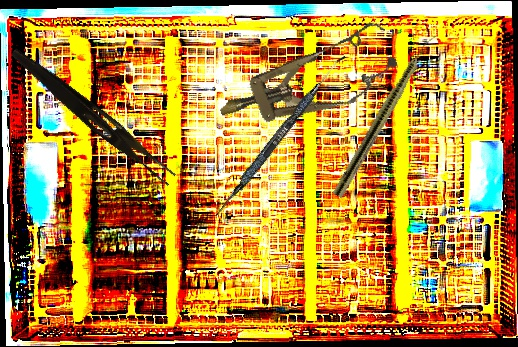Dressing Forceps: (4, 45, 181, 187)
Handpiece: (331, 30, 438, 200)
Spatula Surgical: (213, 49, 347, 221)
Speculum: (208, 15, 405, 147)
